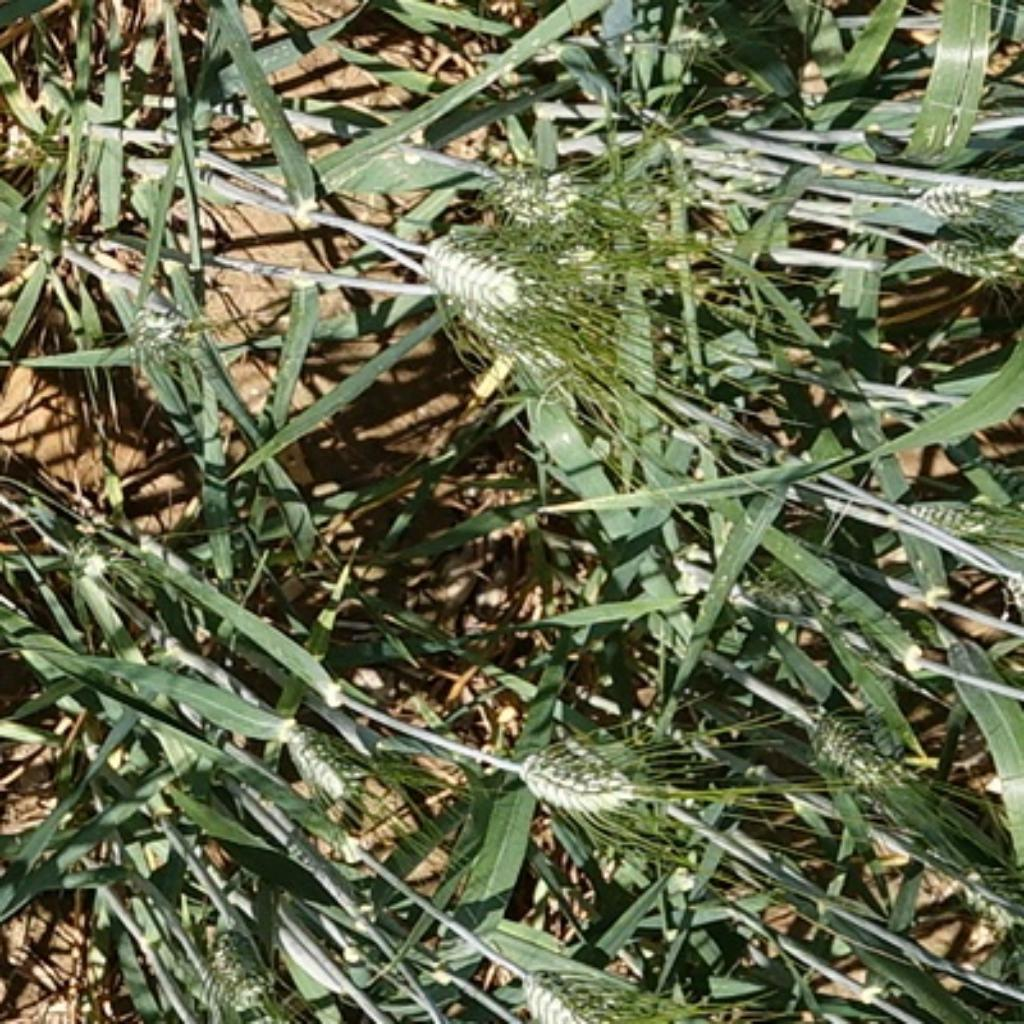0-0: (409, 227, 599, 360), (473, 140, 596, 235), (793, 691, 913, 788), (184, 916, 284, 1024), (509, 736, 637, 819), (913, 844, 1024, 939), (496, 955, 642, 1024), (112, 281, 199, 371), (286, 722, 373, 809), (890, 481, 1016, 540), (48, 514, 128, 606), (913, 222, 1016, 276), (903, 166, 1006, 217), (0, 97, 2, 181)
